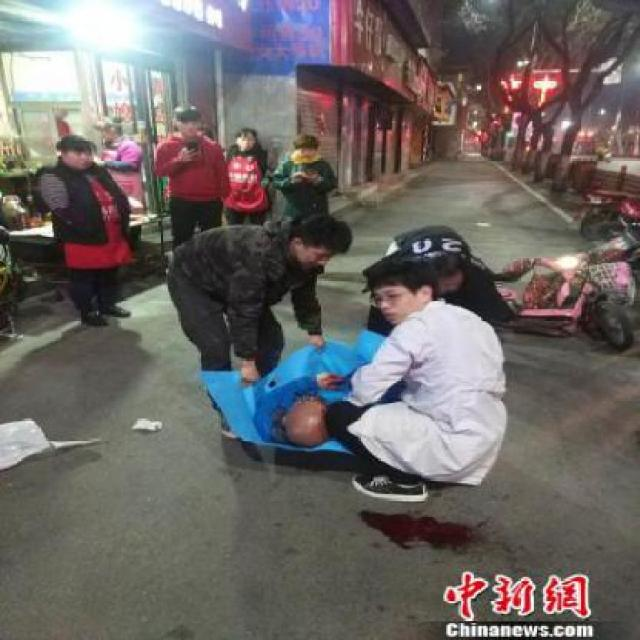fall: (245, 312, 373, 450)
